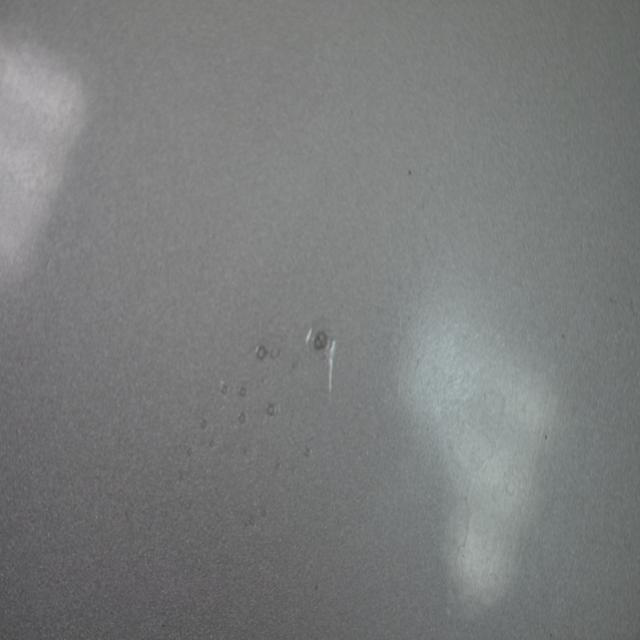runs: (179, 315, 344, 535)
